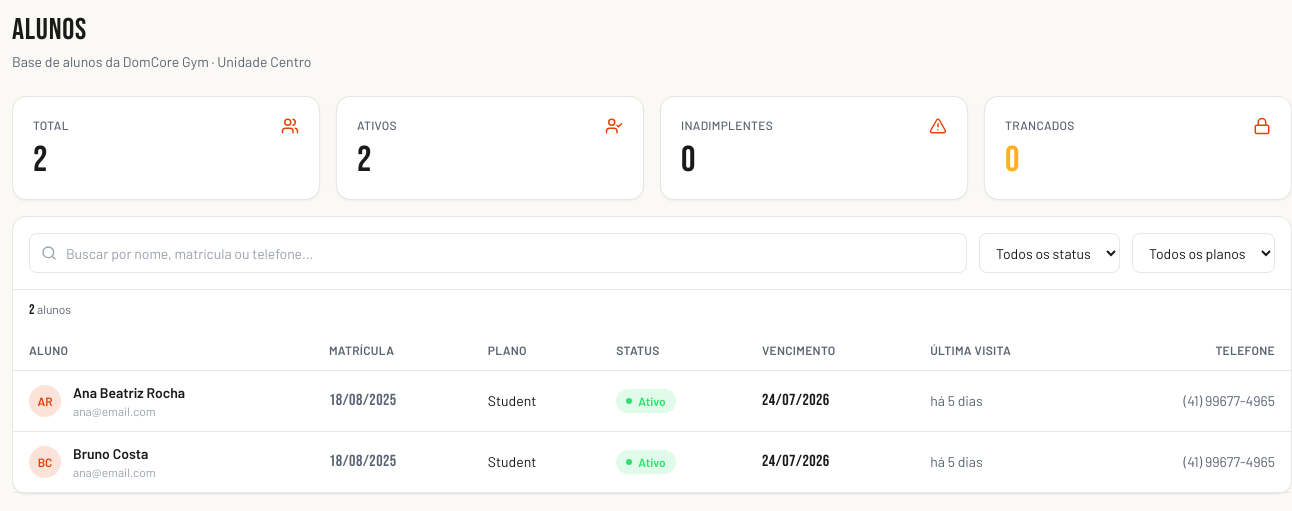
Scenario: AlunosView › filtra a tabela pela busca digitada
Expected: the text "Ana Beatriz Rocha" is shown, [73,383,185,403]
In the search field with placeholder "Buscar por nome, matrícula ou telefone…": [498, 253] box [29,233,967,273], type "bruno"
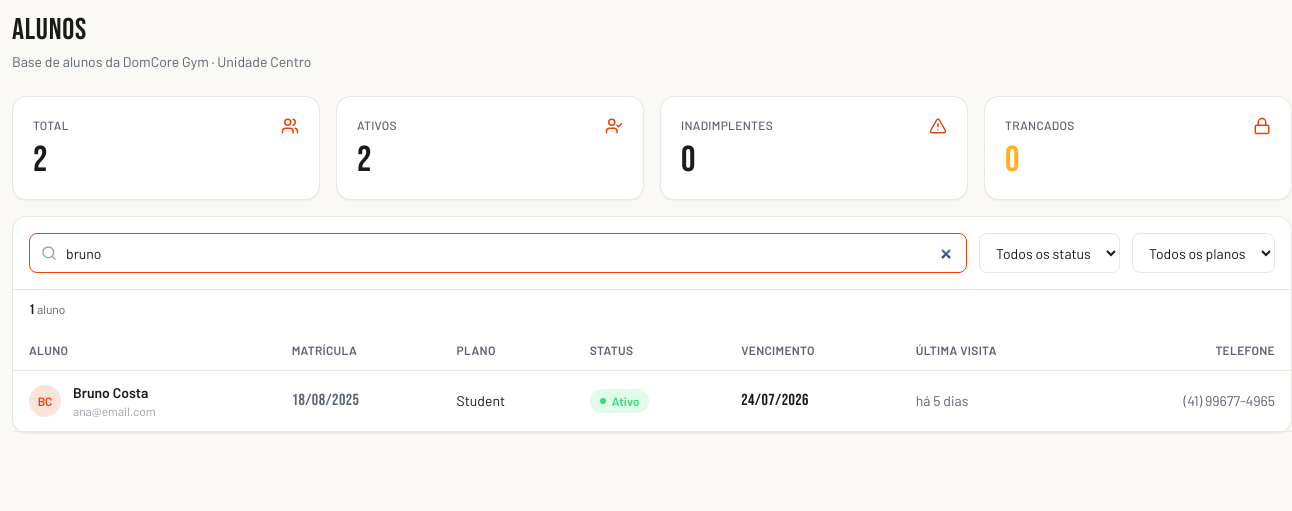
Expected: the text "Bruno Costa" is shown, [73,383,156,403]
Expected: the text "Ana Beatriz Rocha" is gone
